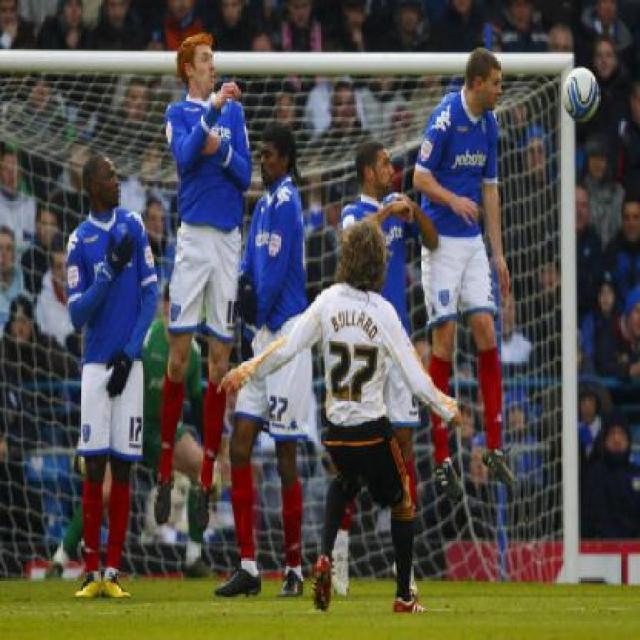ball: (560, 60, 602, 122)
player: (259, 225, 450, 621), (152, 23, 254, 542), (58, 153, 160, 610), (414, 40, 517, 479), (223, 122, 314, 602), (336, 134, 432, 320)
